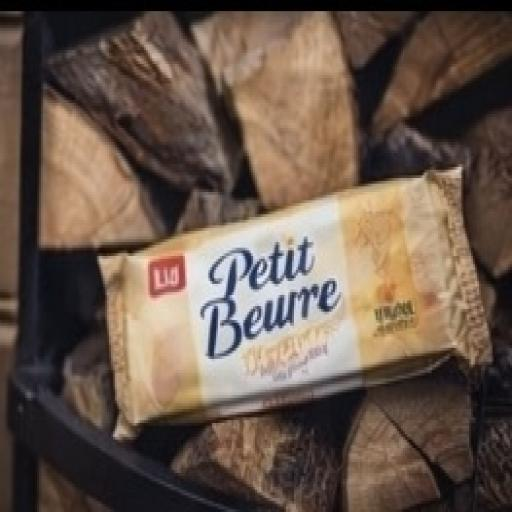petit_beurre: (82, 146, 496, 451)
